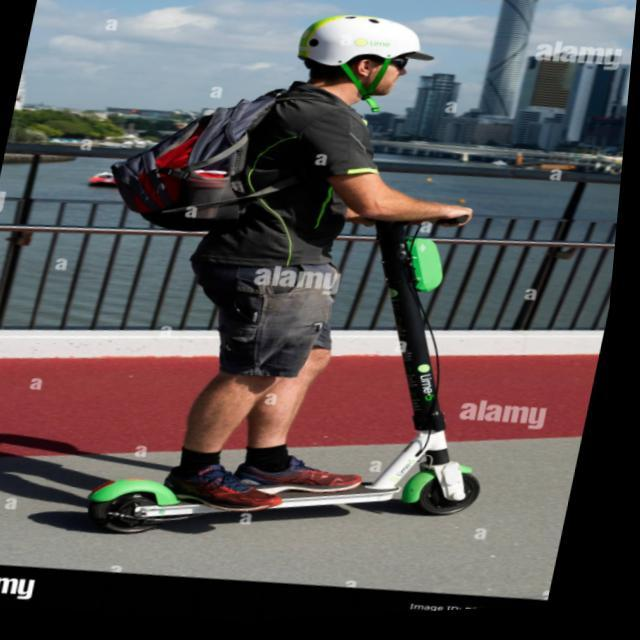Helmet: (285, 3, 437, 120)
